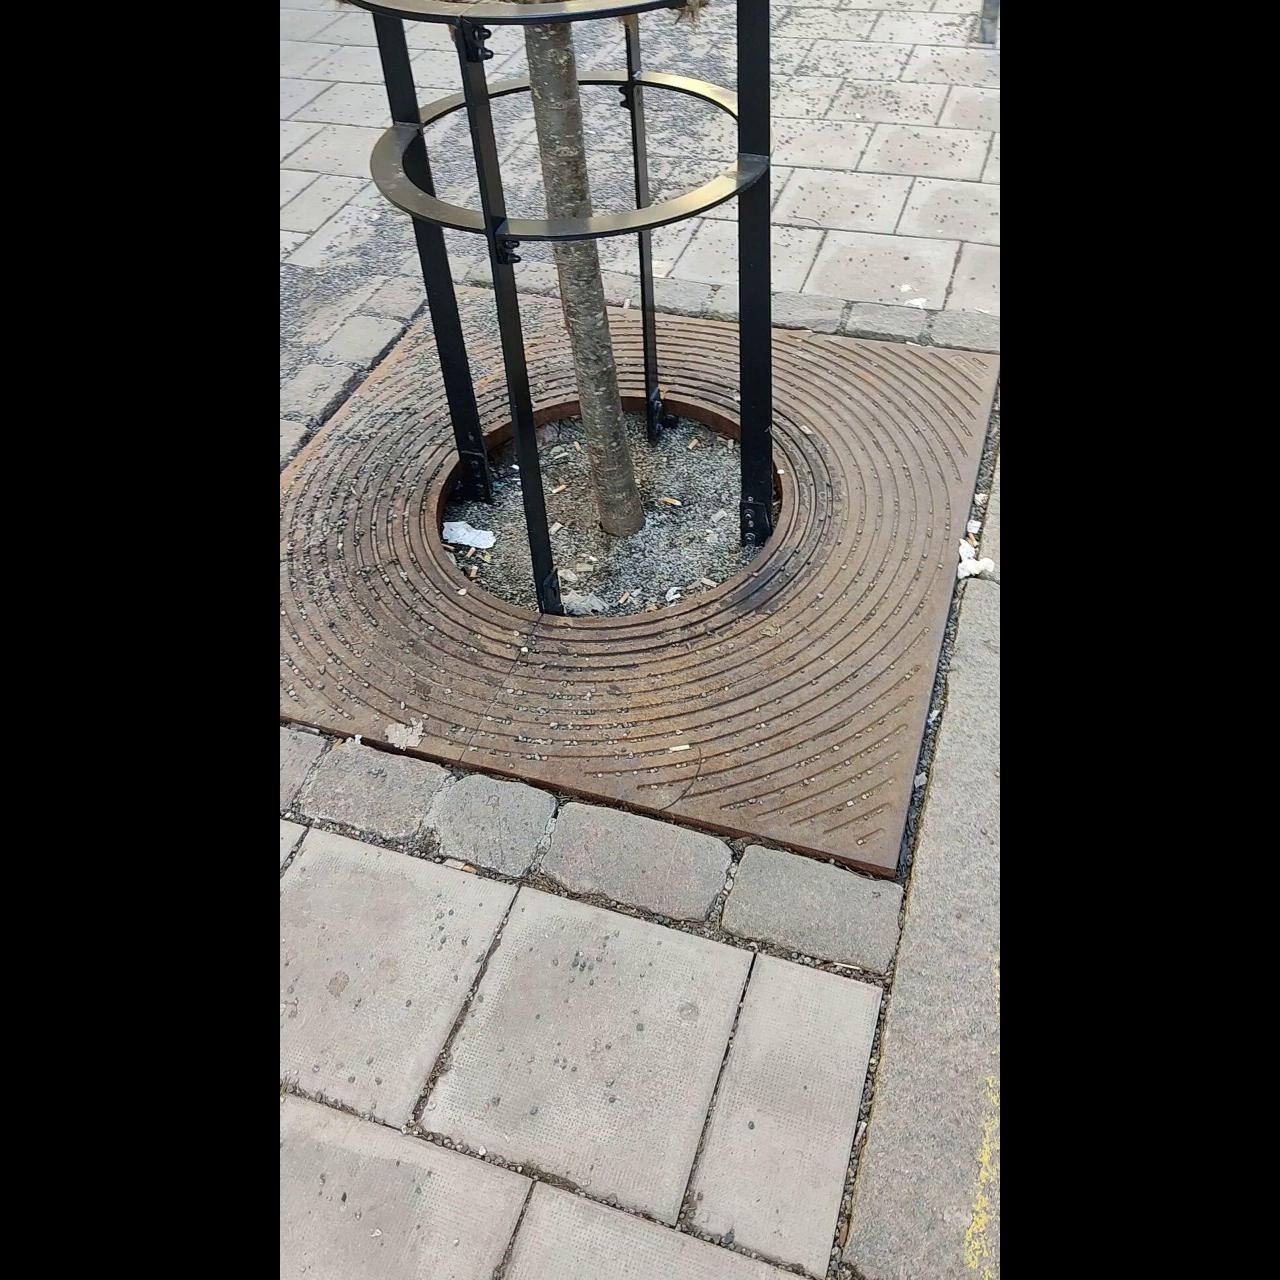cigarettes_butts: (969, 532, 979, 547), (467, 546, 476, 560), (687, 438, 697, 450), (665, 496, 679, 504), (470, 564, 477, 580), (620, 592, 628, 606), (552, 486, 566, 493), (574, 440, 580, 452), (442, 545, 454, 551)
others: (546, 520, 564, 536), (573, 561, 597, 572), (799, 424, 813, 436), (704, 578, 719, 588), (670, 744, 689, 751), (624, 299, 629, 307)
